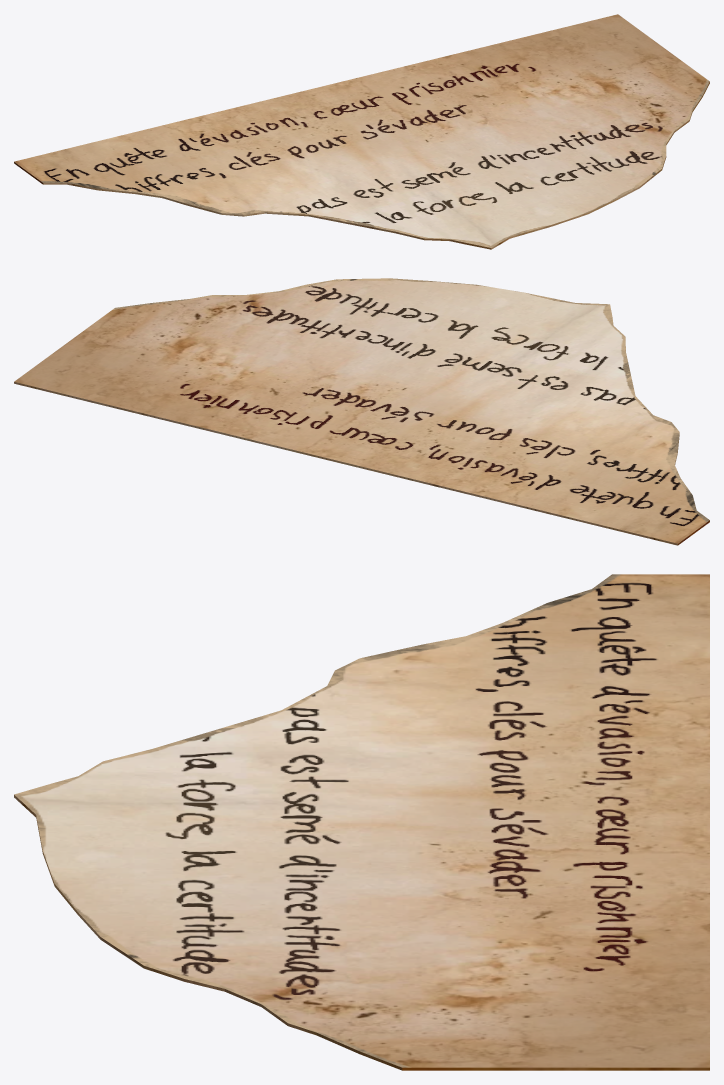
The model's file is Poeme2.fbx.
The picture shows the model from 3 angles, top to bottom: view 1: azimuth 30°, elevation 25°; view 2: azimuth 150°, elevation 25°; view 3: azimuth 270°, elevation 25°; orthographic projection. The views are drawn at different scales.
Parts seen in each view (by area): view 1: Poeme2; view 2: Poeme2; view 3: Poeme2.
Boxes of the visible parts, x1,y1,x2,y2 form: Poeme2: (14,14,709,249); Poeme2: (14,278,709,545); Poeme2: (14,574,709,1070).
Bounding box in the file's own units: 15.71 × 0.0429 × 9.36.
